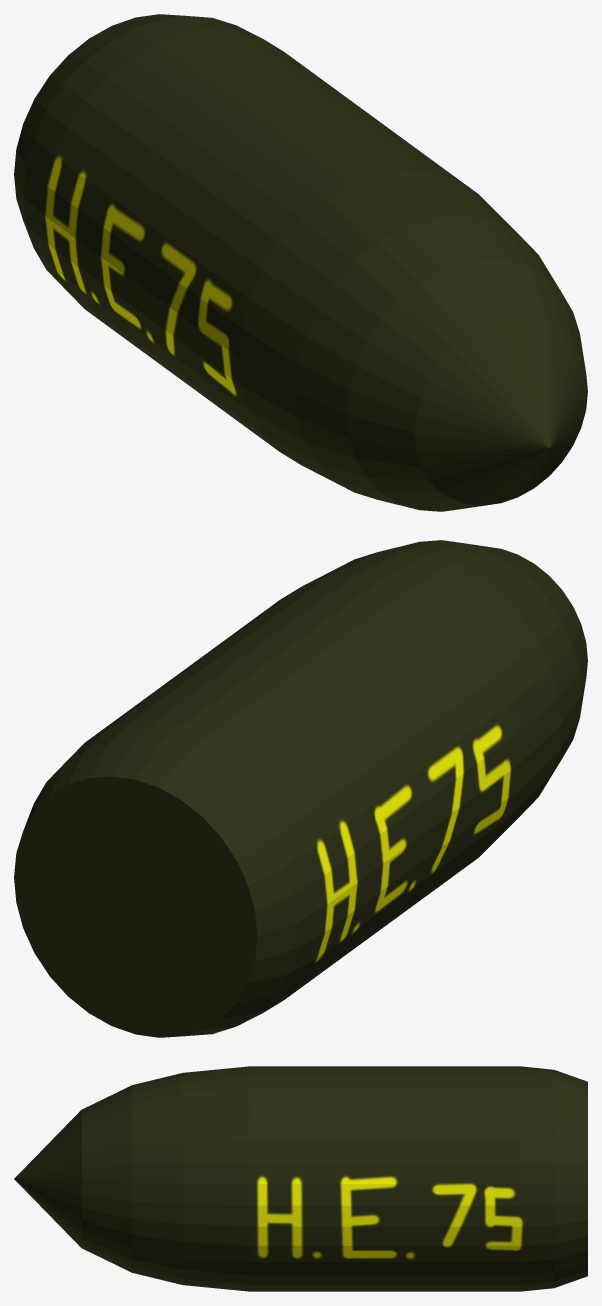
The model's file is shell.obj.
3 renders of one model, top to bottom at view 1: azimuth 30°, elevation 25°; view 2: azimuth 150°, elevation 25°; view 3: azimuth 270°, elevation 25°, orthographic. The views are drawn at different scales.
Parts seen in each view (by area): view 1: Shell_Cone; view 2: Shell_Cone; view 3: Shell_Cone.
Boxes of the visible parts, left/top/right/bottom form: Shell_Cone: left=14, top=14, right=587, bottom=511; Shell_Cone: left=14, top=540, right=587, bottom=1037; Shell_Cone: left=14, top=1066, right=587, bottom=1291.
Size of the model in its own units: 0.3341 by 0.3341 by 0.85.
